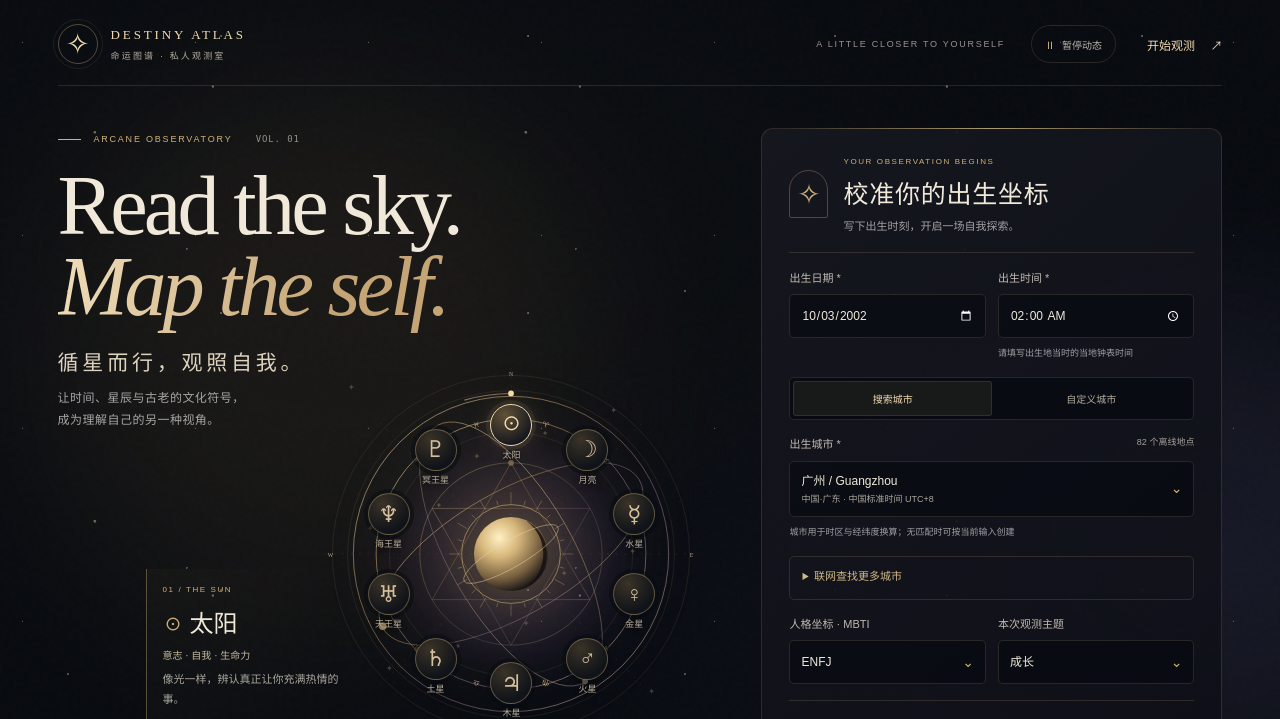
Test: online lookup consent and selection › discards a pending response if the keyword is changed
Click the heading "联网查找更多城市" at (858, 576), box [814,570,902,582]
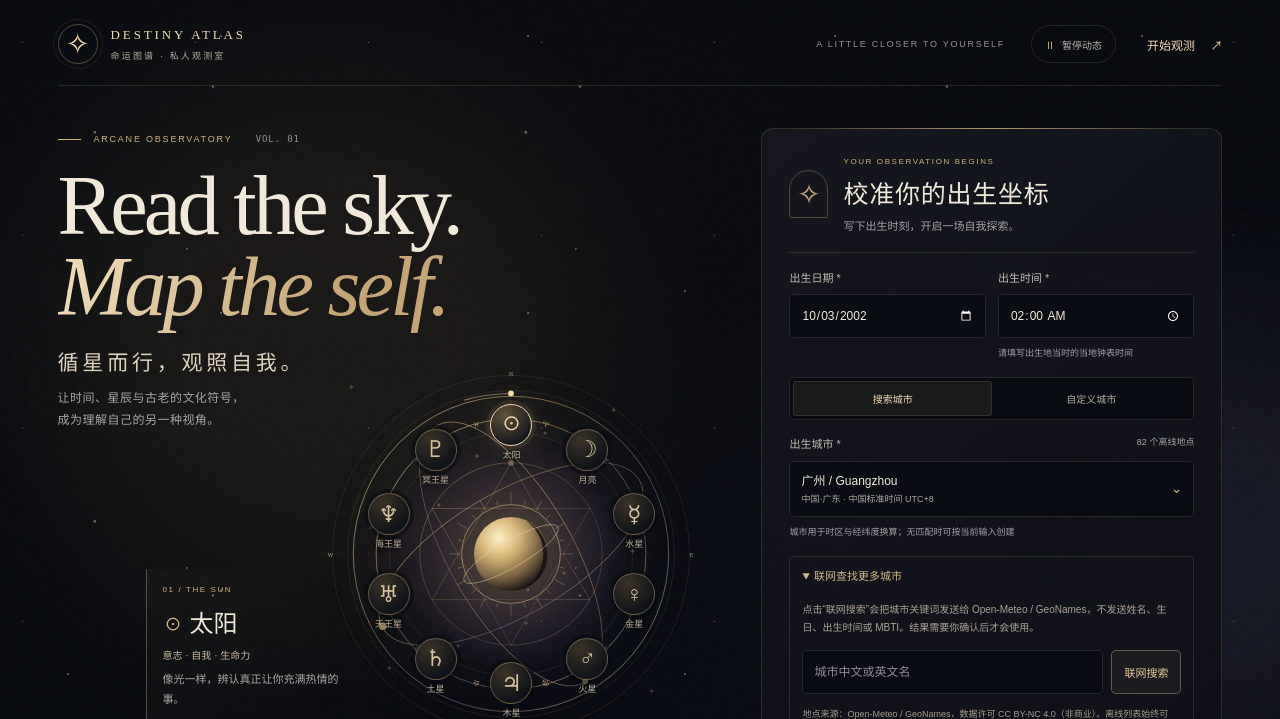
Type "Ningde" into the field named "联网城市关键词" at (953, 672), box [802,650,1103,694]
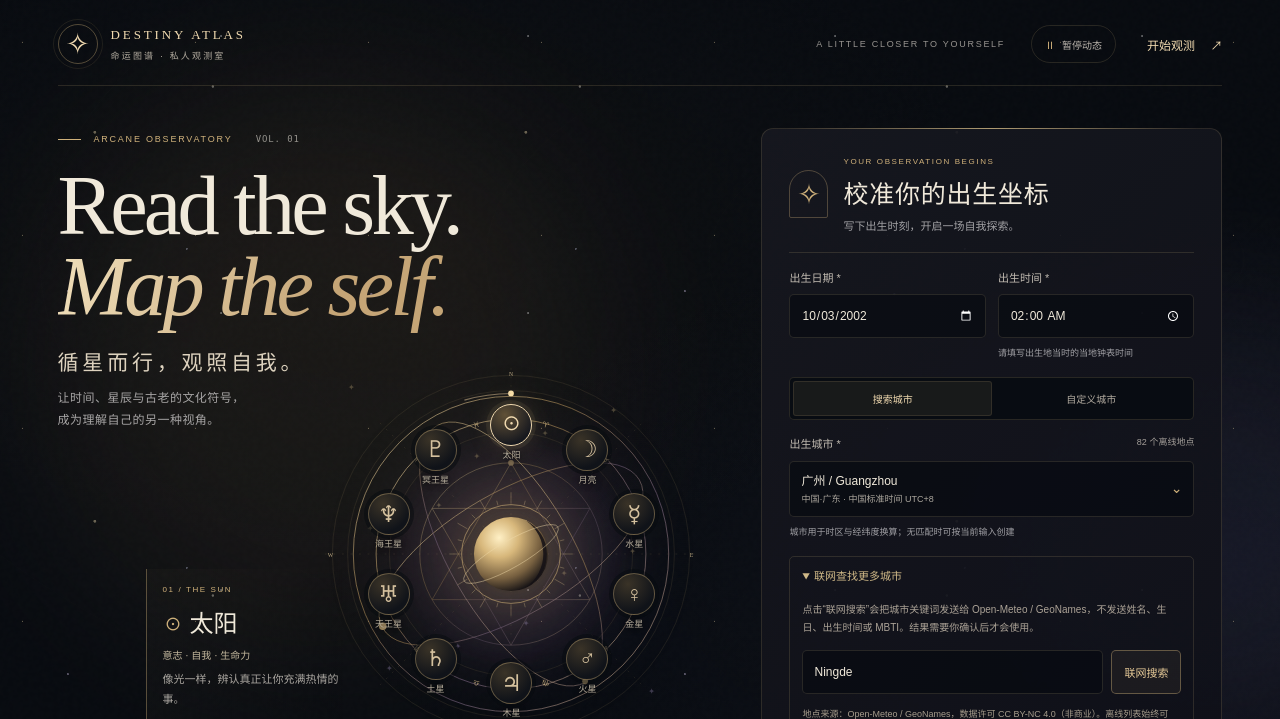
Click the button "联网搜索" at (1146, 672), box [1111,650,1181,694]
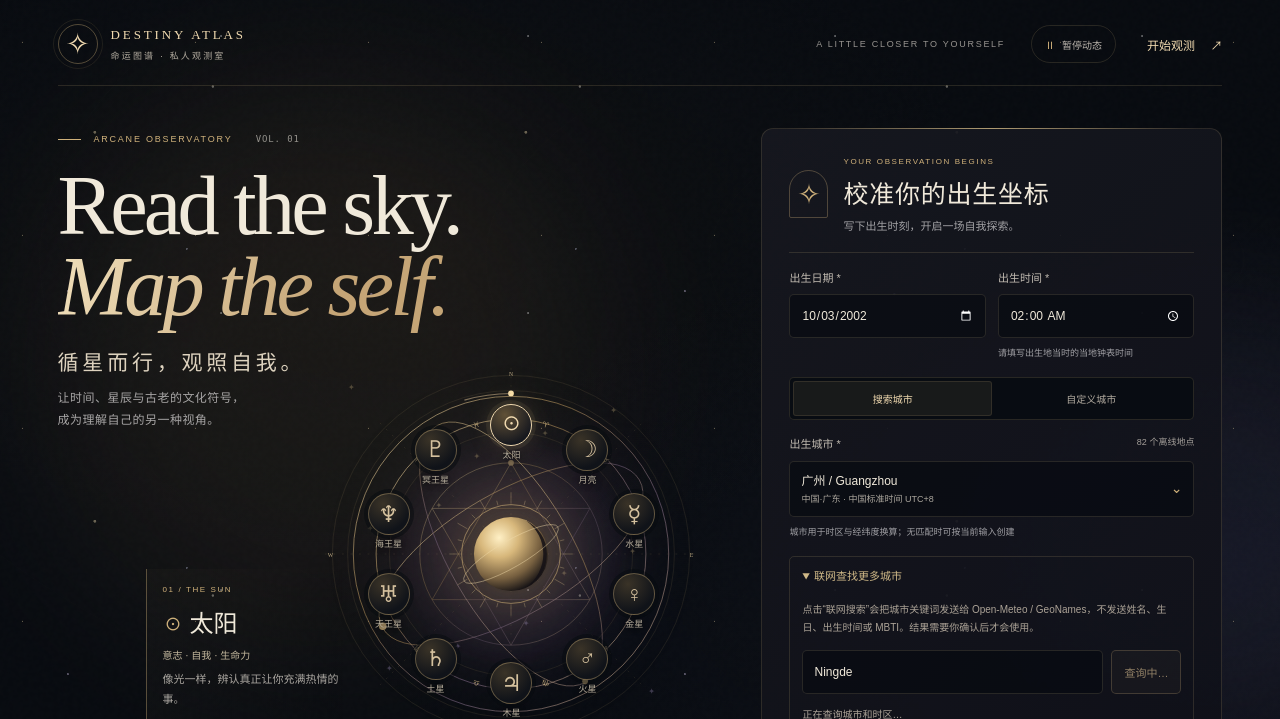
Replace the text in the field named "联网城市关键词" with "Suzhou" at (953, 672), box [802,650,1103,694]
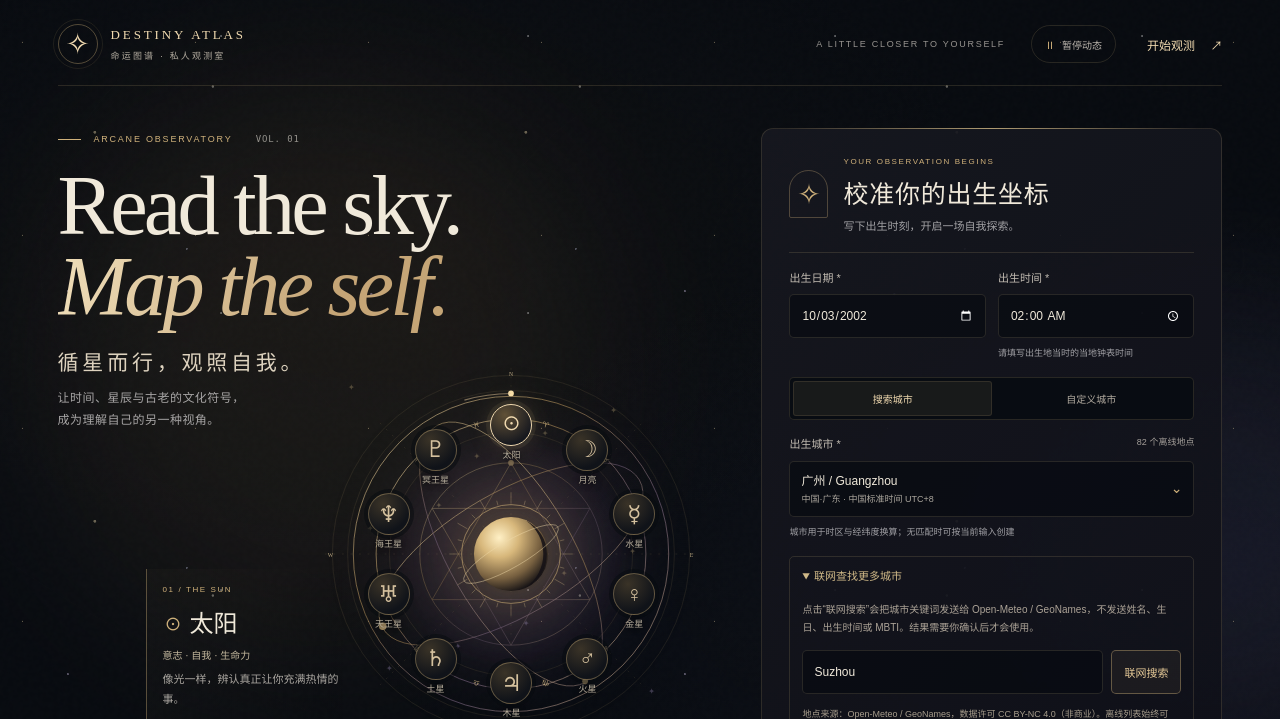
Expected: the button "联网搜索" is enabled, [1111,650,1181,694]
